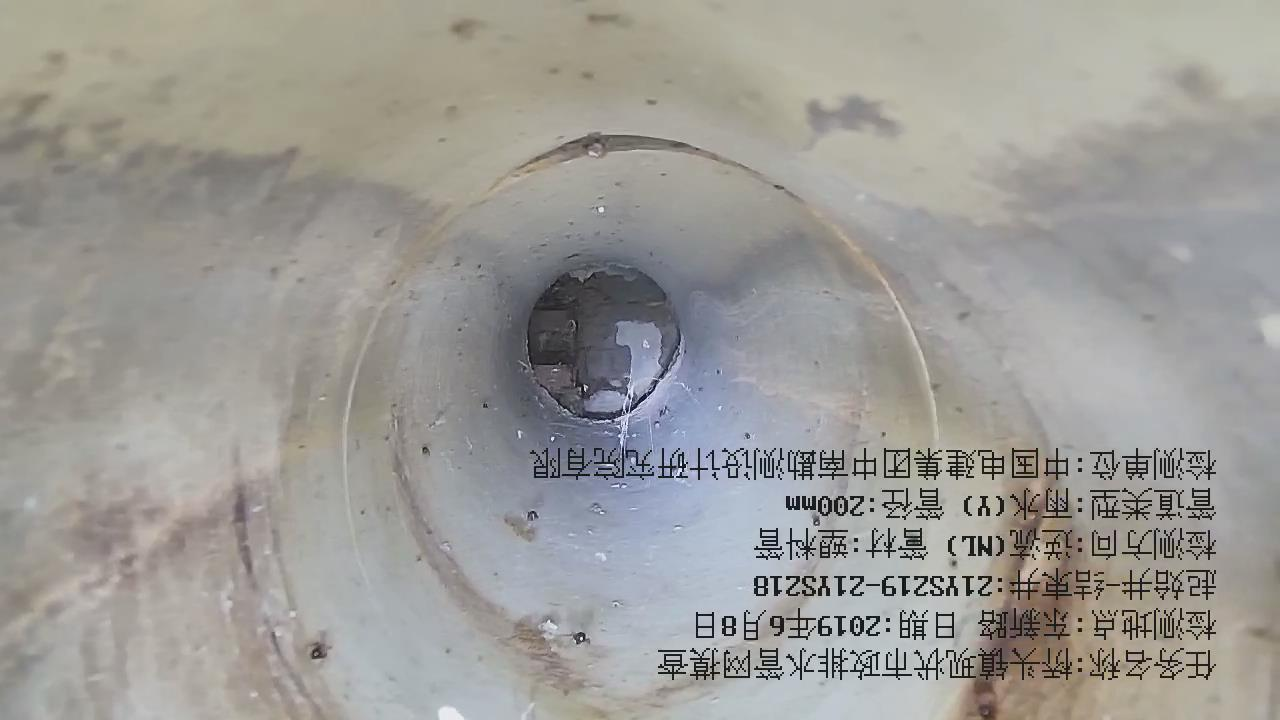CQBG: (525, 267, 679, 421)
